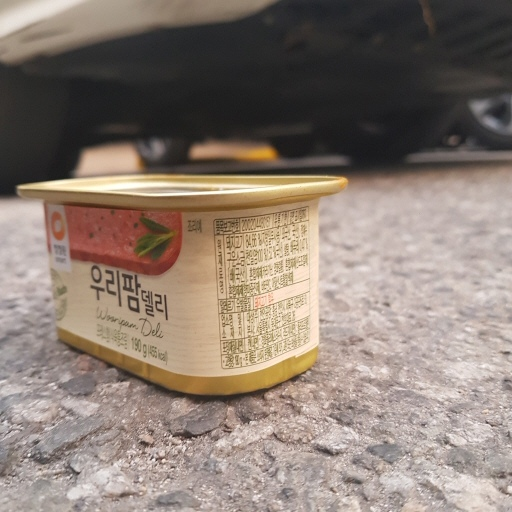Metal_2: (14, 169, 354, 395)
